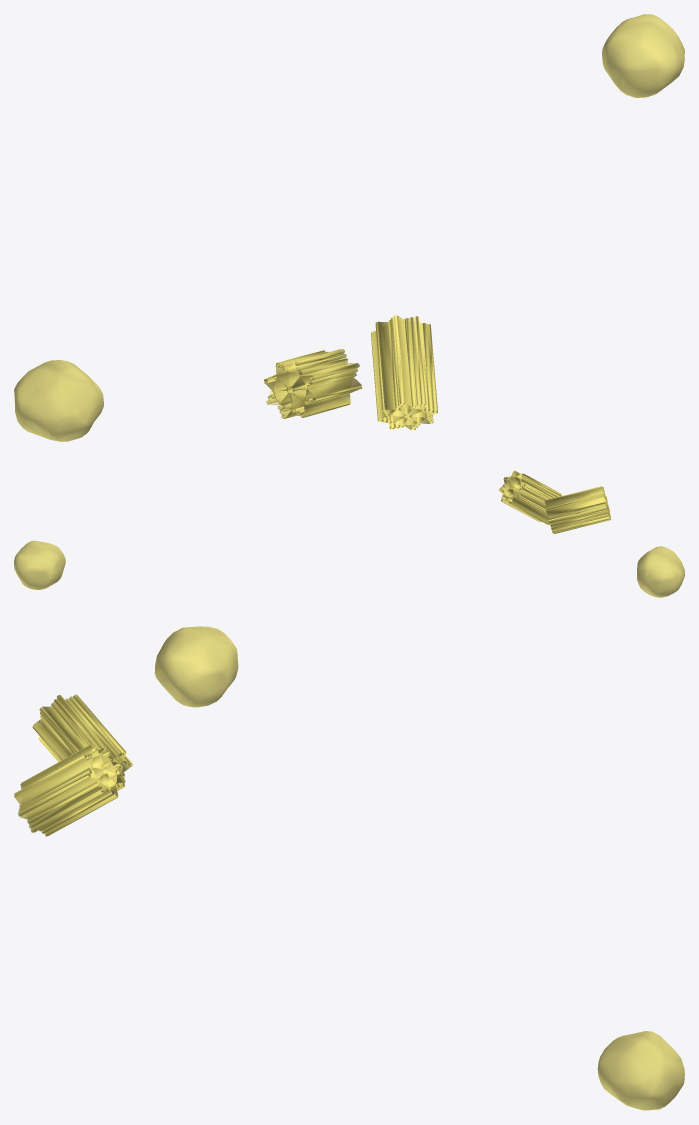
File: kuning-kuning.glb
3 views of the same model, one above another, from view 1: azimuth 30°, elevation 25°; view 2: azimuth 150°, elevation 25°; view 3: azimuth 270°, elevation 25° (orthographic). The views are drawn at different scales.
Parts seen in each view (by area): view 1: Roundcube.000; view 2: Roundcube.000; view 3: Roundcube.000.
Part boxes in pixels (bbox=[...]): Roundcube.000: bbox=[14, 14, 684, 441]; Roundcube.000: bbox=[14, 470, 684, 597]; Roundcube.000: bbox=[14, 626, 684, 1110].
Bounding box in the file's own units: 4.54 × 0.5561 × 3.03.
